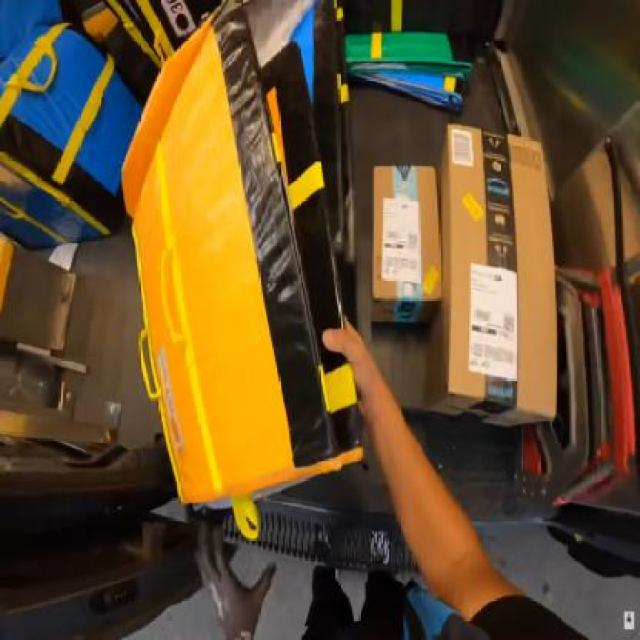cardboxes: (437, 120, 557, 432), (369, 165, 445, 333)
